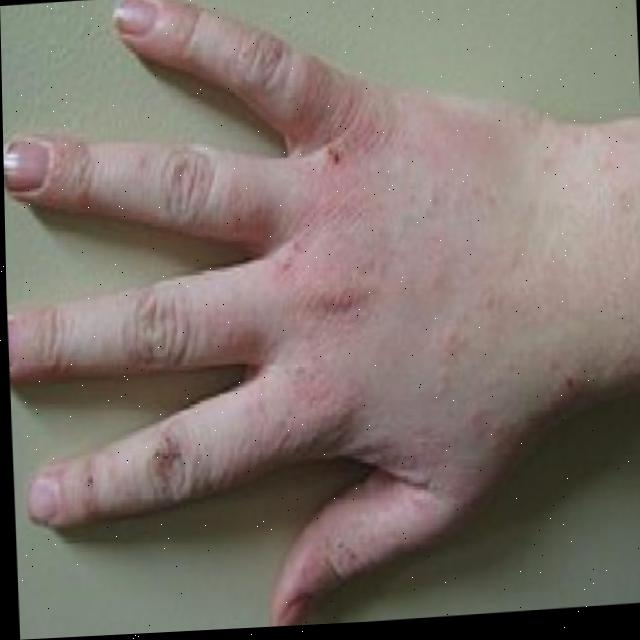Eczema: (260, 71, 408, 441)
